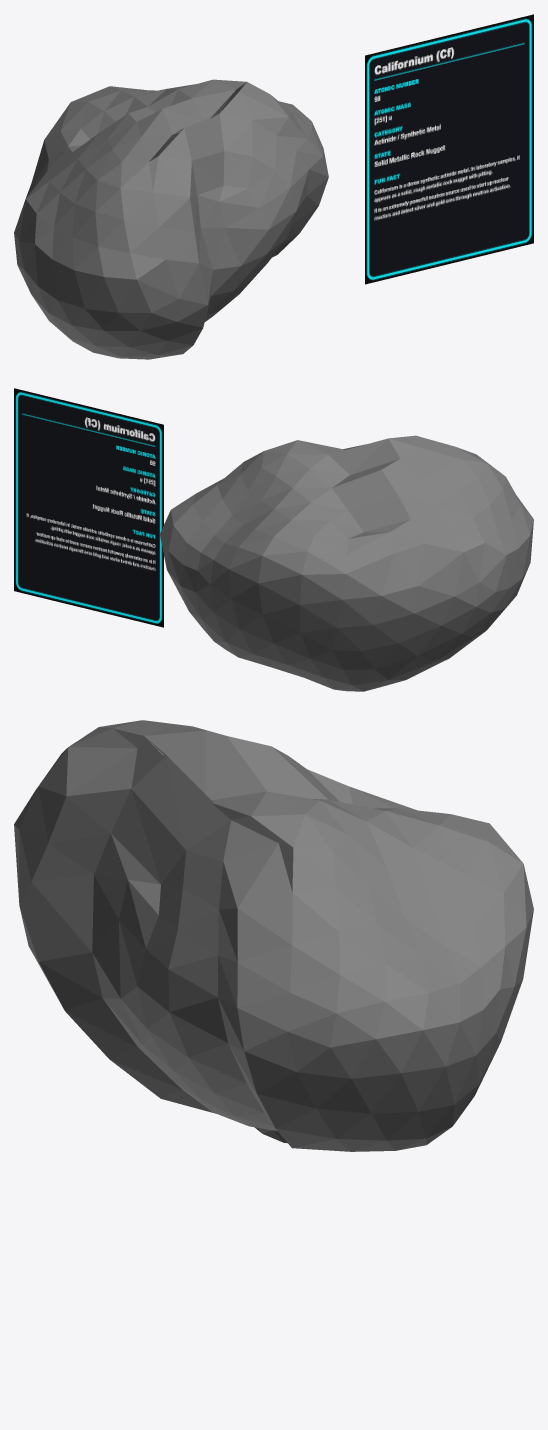
Rendered from californium.glb.
3 views of the same model, one above another, from view 1: azimuth 30°, elevation 25°; view 2: azimuth 150°, elevation 25°; view 3: azimuth 270°, elevation 25° (orthographic). The views are drawn at different scales.
Parts seen in each view (by area): view 1: CaliforniumSpecimenRock, CaliforniumInfoCard; view 2: CaliforniumSpecimenRock, CaliforniumInfoCard; view 3: CaliforniumSpecimenRock.
Boxes of the visible parts, box(x1,y1,x2,y2) form: CaliforniumSpecimenRock: box(14, 79, 328, 359); CaliforniumInfoCard: box(365, 14, 533, 284); CaliforniumSpecimenRock: box(160, 435, 533, 691); CaliforniumInfoCard: box(14, 388, 163, 627); CaliforniumSpecimenRock: box(14, 720, 533, 1151).
Size of the model in its own units: 2.52 by 1.18 by 1.39.
2 materials, 1 textured.
